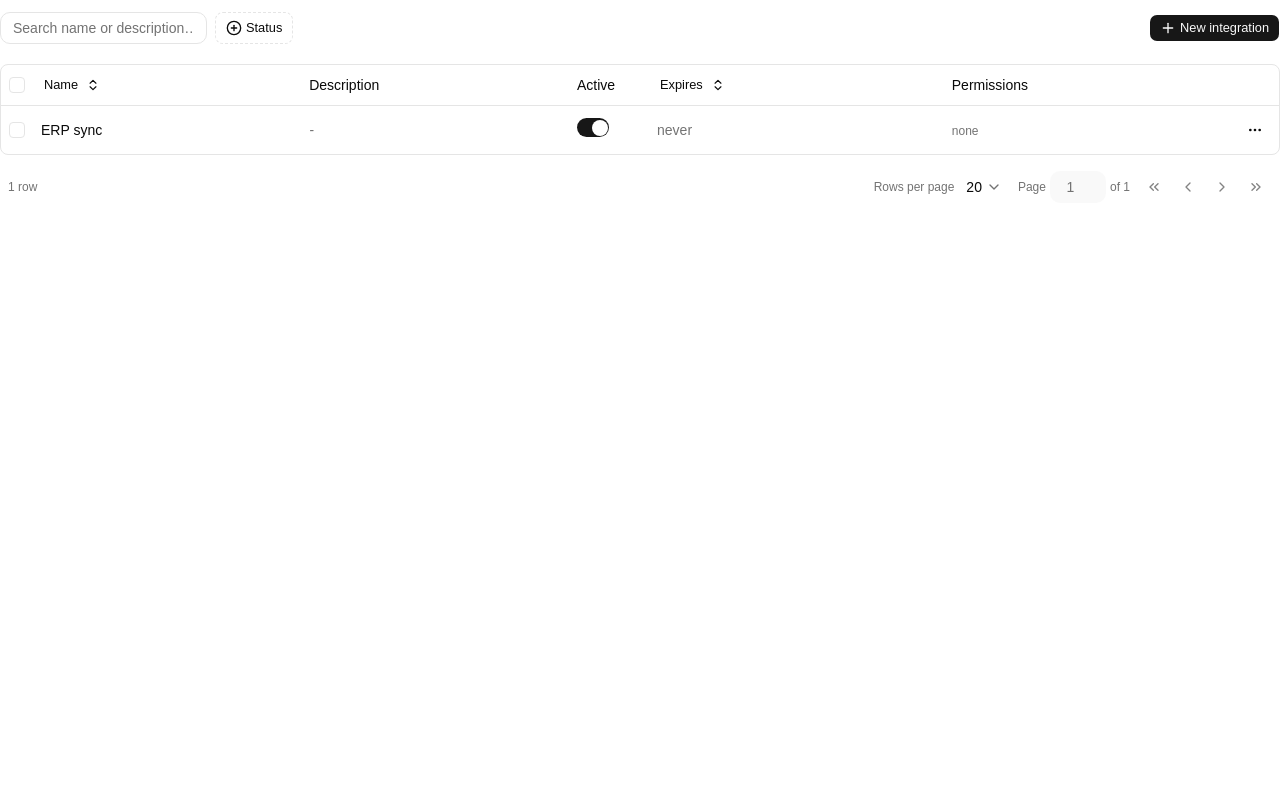
Test: IntegrationsList regenerate token › confirms before regenerating and sends nothing on cancel
Press the mouse on the button named "Actions for ERP sync": (1255, 130) x1=1239 y1=114 x2=1271 y2=146
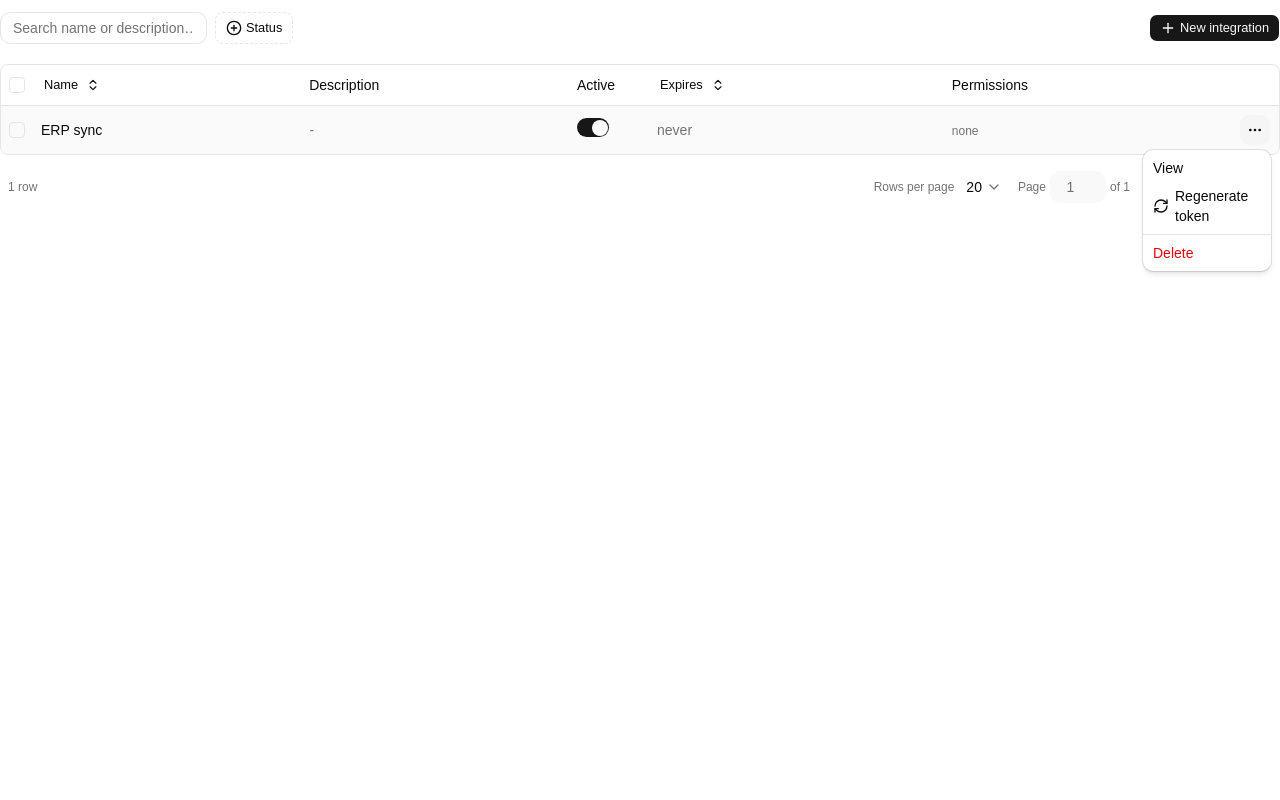
Click the menu item "Regenerate token": (1201, 206) x1=1153 y1=188 x2=1248 y2=224
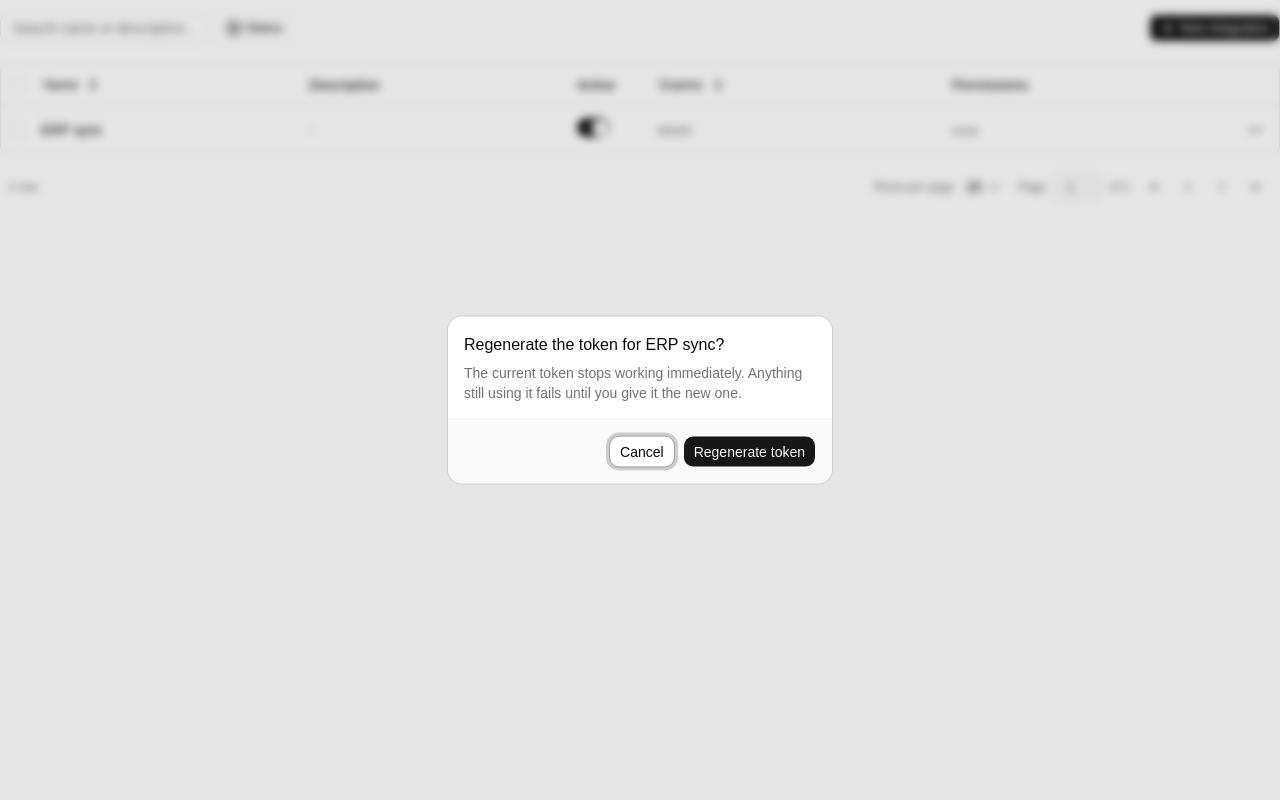
Click the button "Cancel": (642, 452) x1=609 y1=436 x2=675 y2=468
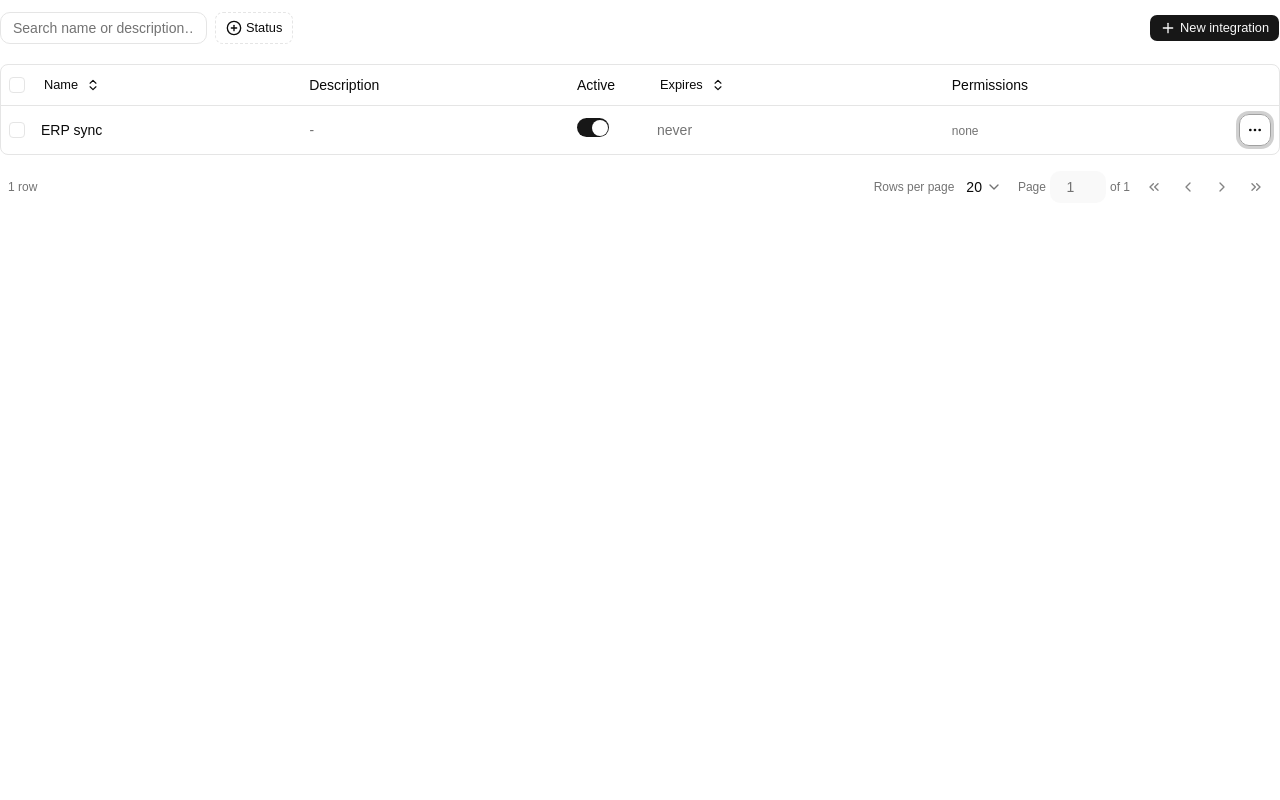
Expected: the dialog is gone
